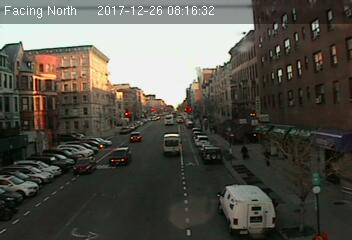car: (109, 147, 131, 166), (73, 156, 96, 174), (203, 147, 222, 162), (128, 131, 144, 143)
truck: (217, 183, 277, 236), (162, 132, 182, 156)
